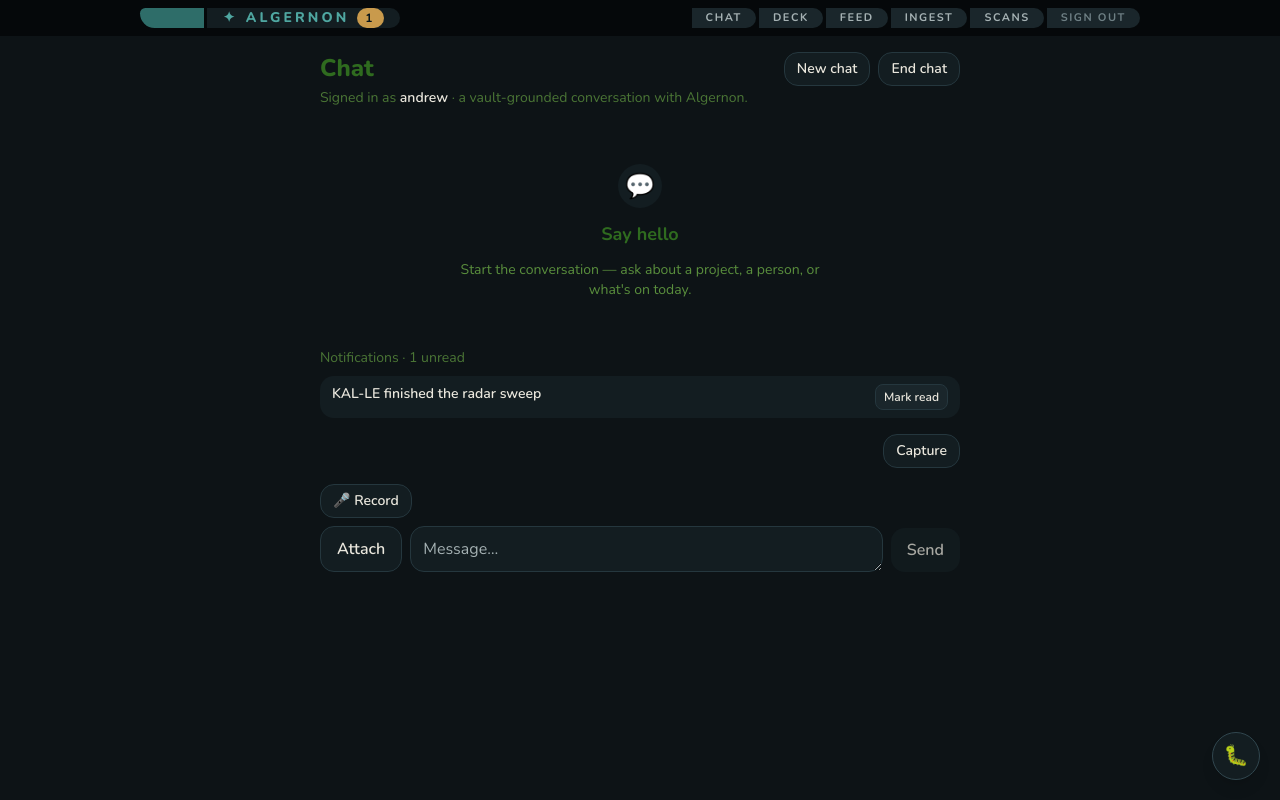
Scenario: /chat — a refused Mark-read reaches the operator › draws NO line when the ack lands (the control)
Expected: the list item with test id "notification-item" is shown, x1=320 y1=376 x2=960 y2=418
What coordinates should you click on to do the following:
click the button with test id "notification-ack"
I would click on:
 (912, 397)
Its box is x1=875 y1=384 x2=948 y2=410.
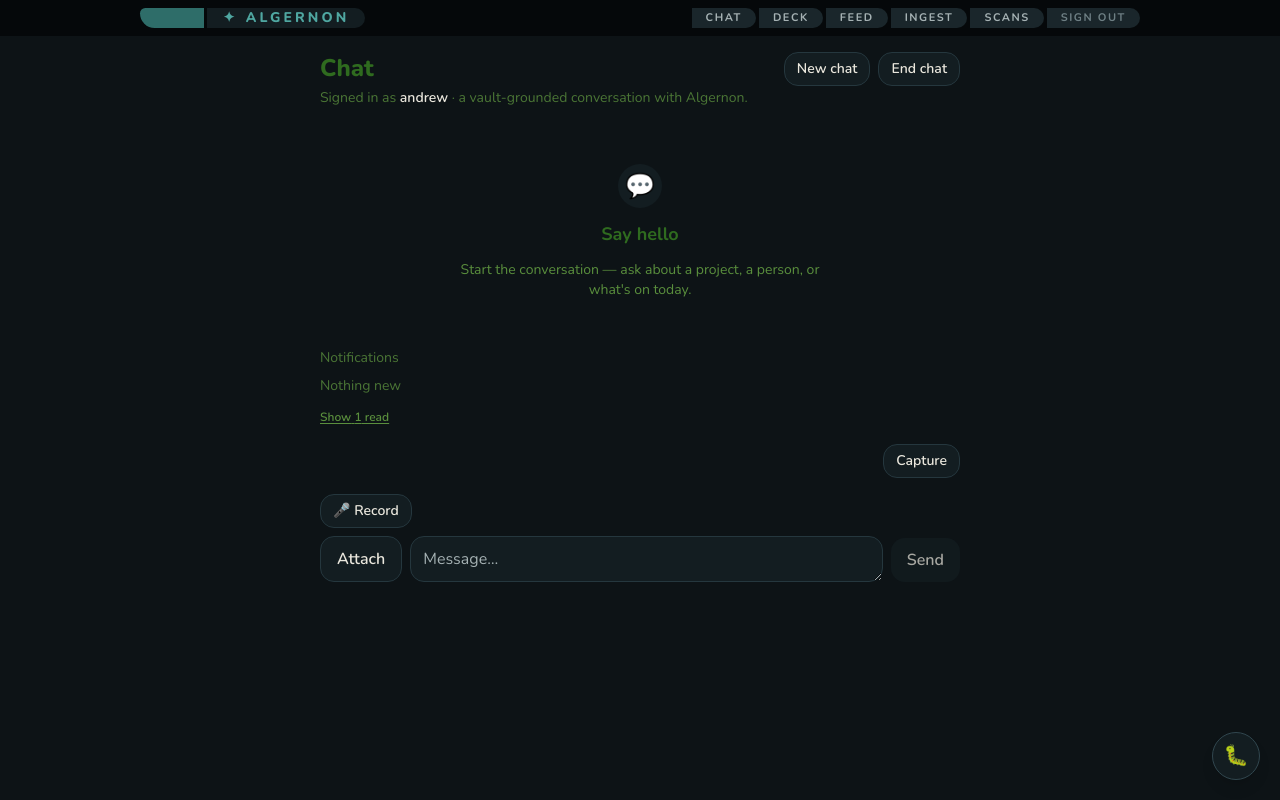
Expected: the button with test id "notification-ack" is gone
